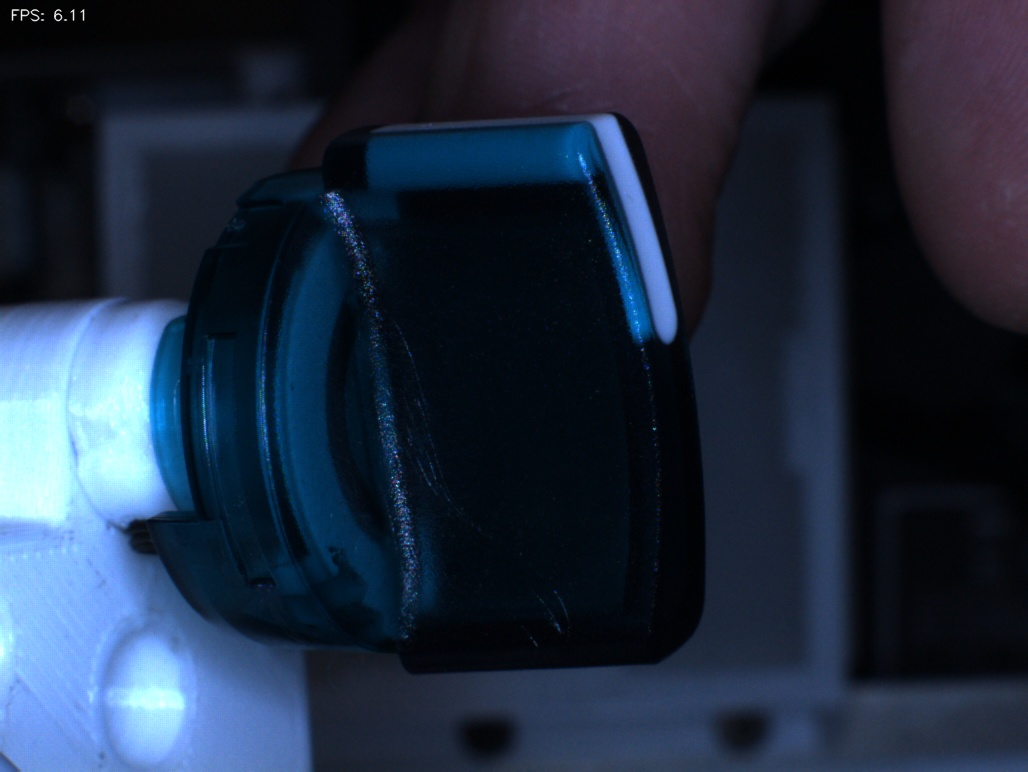Givrage: (385, 315, 480, 530), (491, 520, 590, 665)
